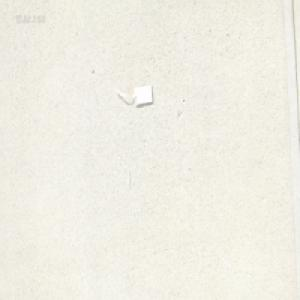LuggageTag: (113, 83, 153, 107)
